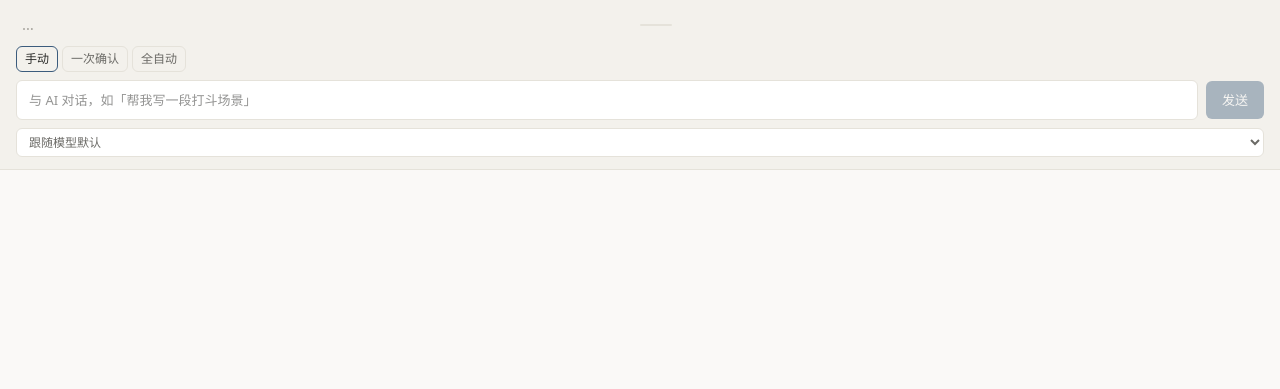
ChatPanel chat-UX — 发送/中断按钮切换（#719） › 流式运行中渲染 chat-interrupt，非运行中渲染 chat-send
Expected: the button with test id "chat-send" is shown, [1206, 81, 1264, 119]
Type "运行中测试" into the text box with test id "chat-input" at [607, 100], box [16, 80, 1198, 120]
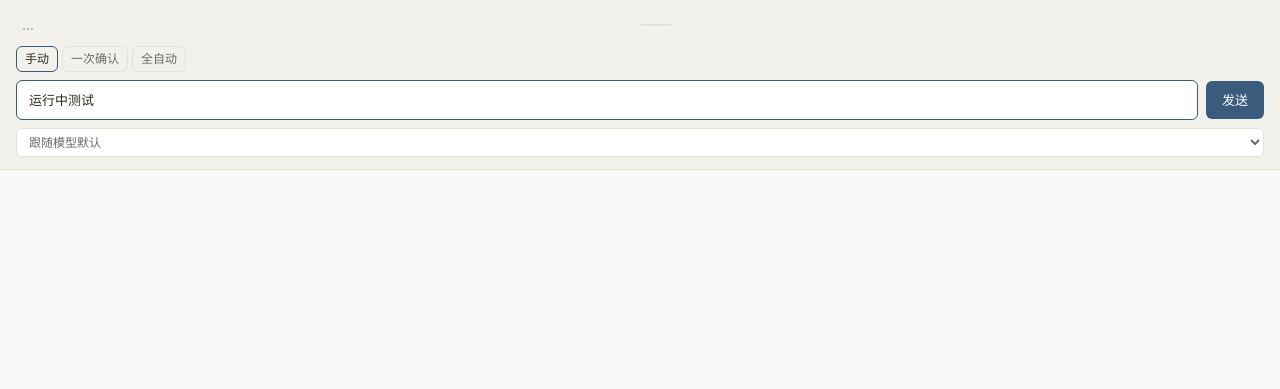
Click the button with test id "chat-send" at [1235, 100], box [1206, 81, 1264, 119]
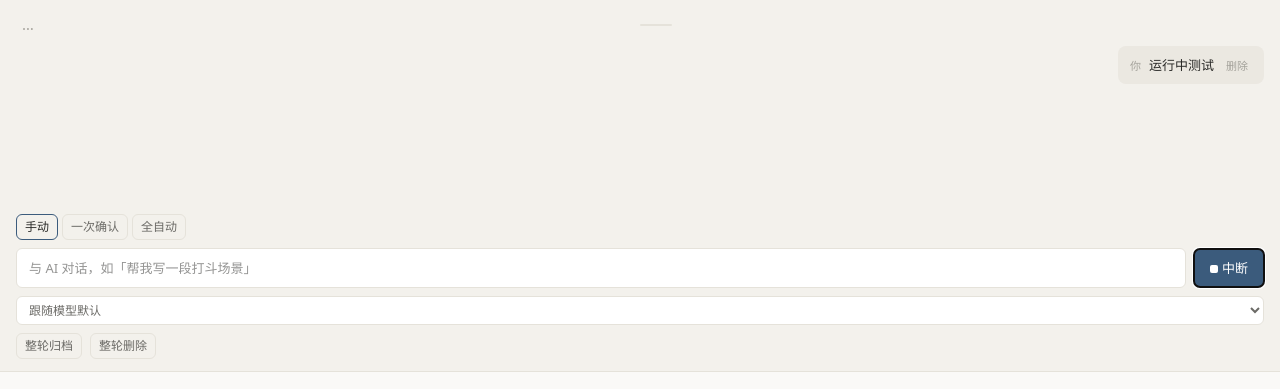
Expected: the button with test id "chat-interrupt" is shown, [1194, 249, 1264, 287]
